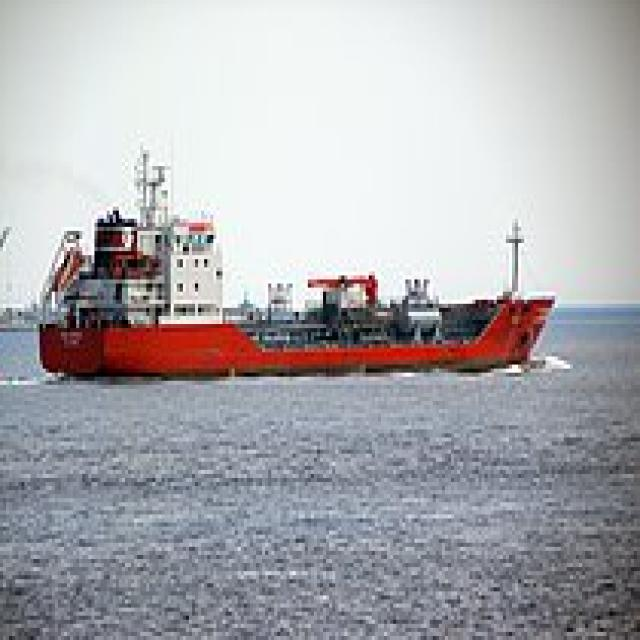Tanker: (34, 138, 558, 376)
